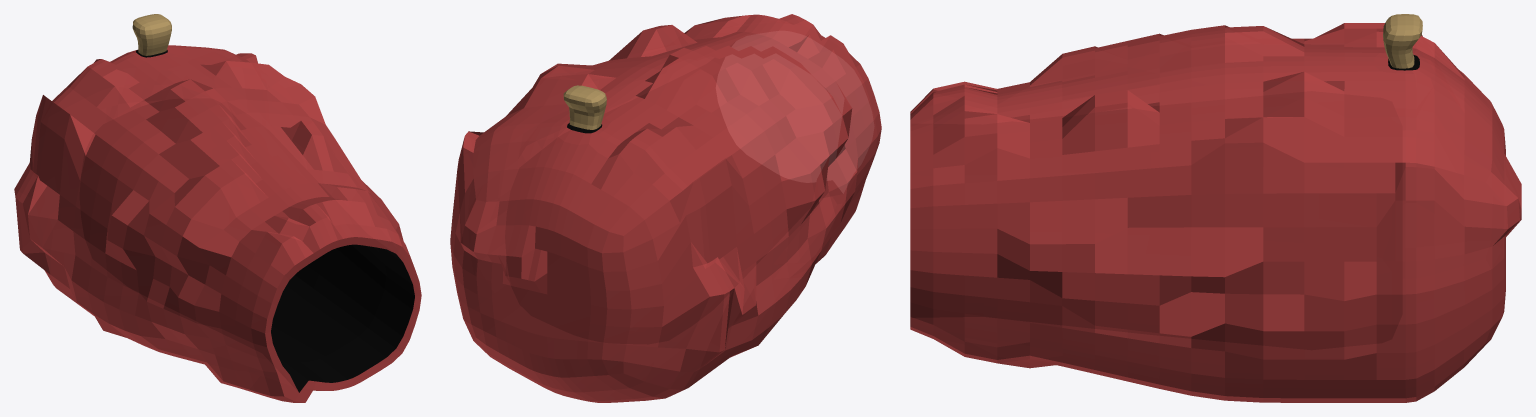
The model's file is SmallCanonV2Part2.fbx.
3 views of the same model, side by side, from view 1: azimuth 30°, elevation 25°; view 2: azimuth 150°, elevation 25°; view 3: azimuth 270°, elevation 25° (orthographic). The views are drawn at different scales.
Visible parts, largest first — view 1: Small Canon.001; view 2: Small Canon.001; view 3: Small Canon.001.
Boxes of the visible parts, x1,y1,x2,y2 form: Small Canon.001: [14, 14, 421, 402]; Small Canon.001: [450, 14, 881, 402]; Small Canon.001: [910, 14, 1521, 402].
Size of the model in its own units: 42.36 by 42.8 by 66.08.
